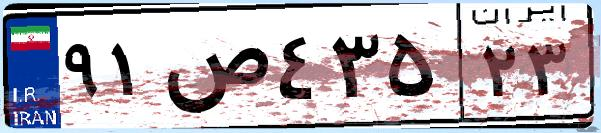1: (110, 28, 158, 98)
2: (475, 38, 525, 113)
3: (330, 28, 385, 110), (525, 38, 570, 115)
4: (270, 28, 330, 110)
5: (385, 28, 445, 110)
9: (57, 26, 110, 100)
ص: (158, 20, 270, 120)
